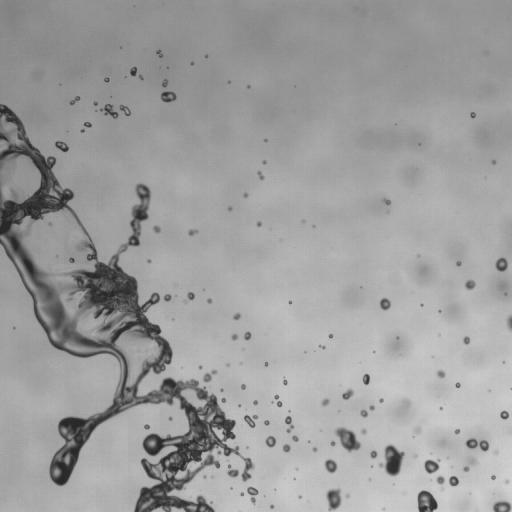droplet: (378, 444, 404, 476), (334, 427, 361, 452), (417, 490, 437, 511), (326, 488, 341, 511), (101, 104, 117, 118), (424, 459, 440, 473), (324, 458, 337, 473), (492, 501, 511, 511), (244, 414, 257, 427), (495, 257, 507, 271), (161, 91, 176, 102), (55, 141, 68, 151), (342, 388, 353, 399), (265, 436, 276, 447), (380, 298, 390, 310), (465, 280, 475, 289), (449, 476, 458, 486), (362, 373, 369, 385), (500, 410, 509, 419), (436, 476, 444, 485), (437, 370, 445, 378), (321, 398, 329, 406), (130, 67, 137, 76), (188, 229, 197, 236), (244, 331, 251, 340), (257, 171, 264, 179), (153, 225, 160, 233), (187, 292, 194, 300), (360, 409, 367, 417), (283, 444, 290, 452), (370, 450, 377, 458), (164, 294, 171, 301), (233, 312, 240, 319), (414, 427, 421, 434), (463, 336, 469, 344), (231, 334, 238, 340), (403, 400, 410, 406), (292, 435, 298, 441), (157, 50, 162, 57), (162, 79, 167, 86), (84, 122, 91, 127), (68, 257, 75, 262), (384, 199, 390, 204), (361, 429, 367, 434), (454, 429, 460, 434), (283, 378, 287, 385), (104, 77, 109, 82), (470, 112, 475, 117), (256, 221, 261, 226), (456, 261, 461, 266), (207, 298, 212, 303), (455, 383, 460, 388), (369, 405, 374, 410), (264, 420, 269, 425), (144, 424, 149, 429), (241, 384, 245, 389), (221, 397, 225, 402), (253, 400, 257, 405), (330, 441, 335, 445), (312, 447, 317, 451), (319, 345, 325, 348), (93, 101, 97, 105), (262, 160, 266, 164), (243, 193, 247, 197), (329, 334, 333, 338), (198, 365, 202, 369), (379, 398, 383, 402), (168, 416, 172, 420), (494, 450, 498, 454), (491, 475, 495, 479), (139, 75, 142, 79), (492, 160, 495, 164), (345, 494, 349, 497), (81, 129, 84, 132), (228, 207, 231, 210), (147, 259, 150, 262), (413, 454, 416, 457), (505, 480, 508, 483), (270, 505, 273, 508), (191, 62, 193, 65), (288, 301, 291, 303), (299, 495, 301, 498), (438, 310, 440, 312), (265, 363, 267, 365), (440, 407, 442, 409), (241, 493, 243, 495)
ligament: (0, 104, 251, 511), (466, 438, 489, 451), (463, 456, 477, 471), (247, 486, 258, 504), (203, 369, 217, 382), (285, 416, 293, 432), (120, 105, 130, 115), (274, 394, 282, 406), (506, 314, 511, 331), (70, 96, 79, 105)
